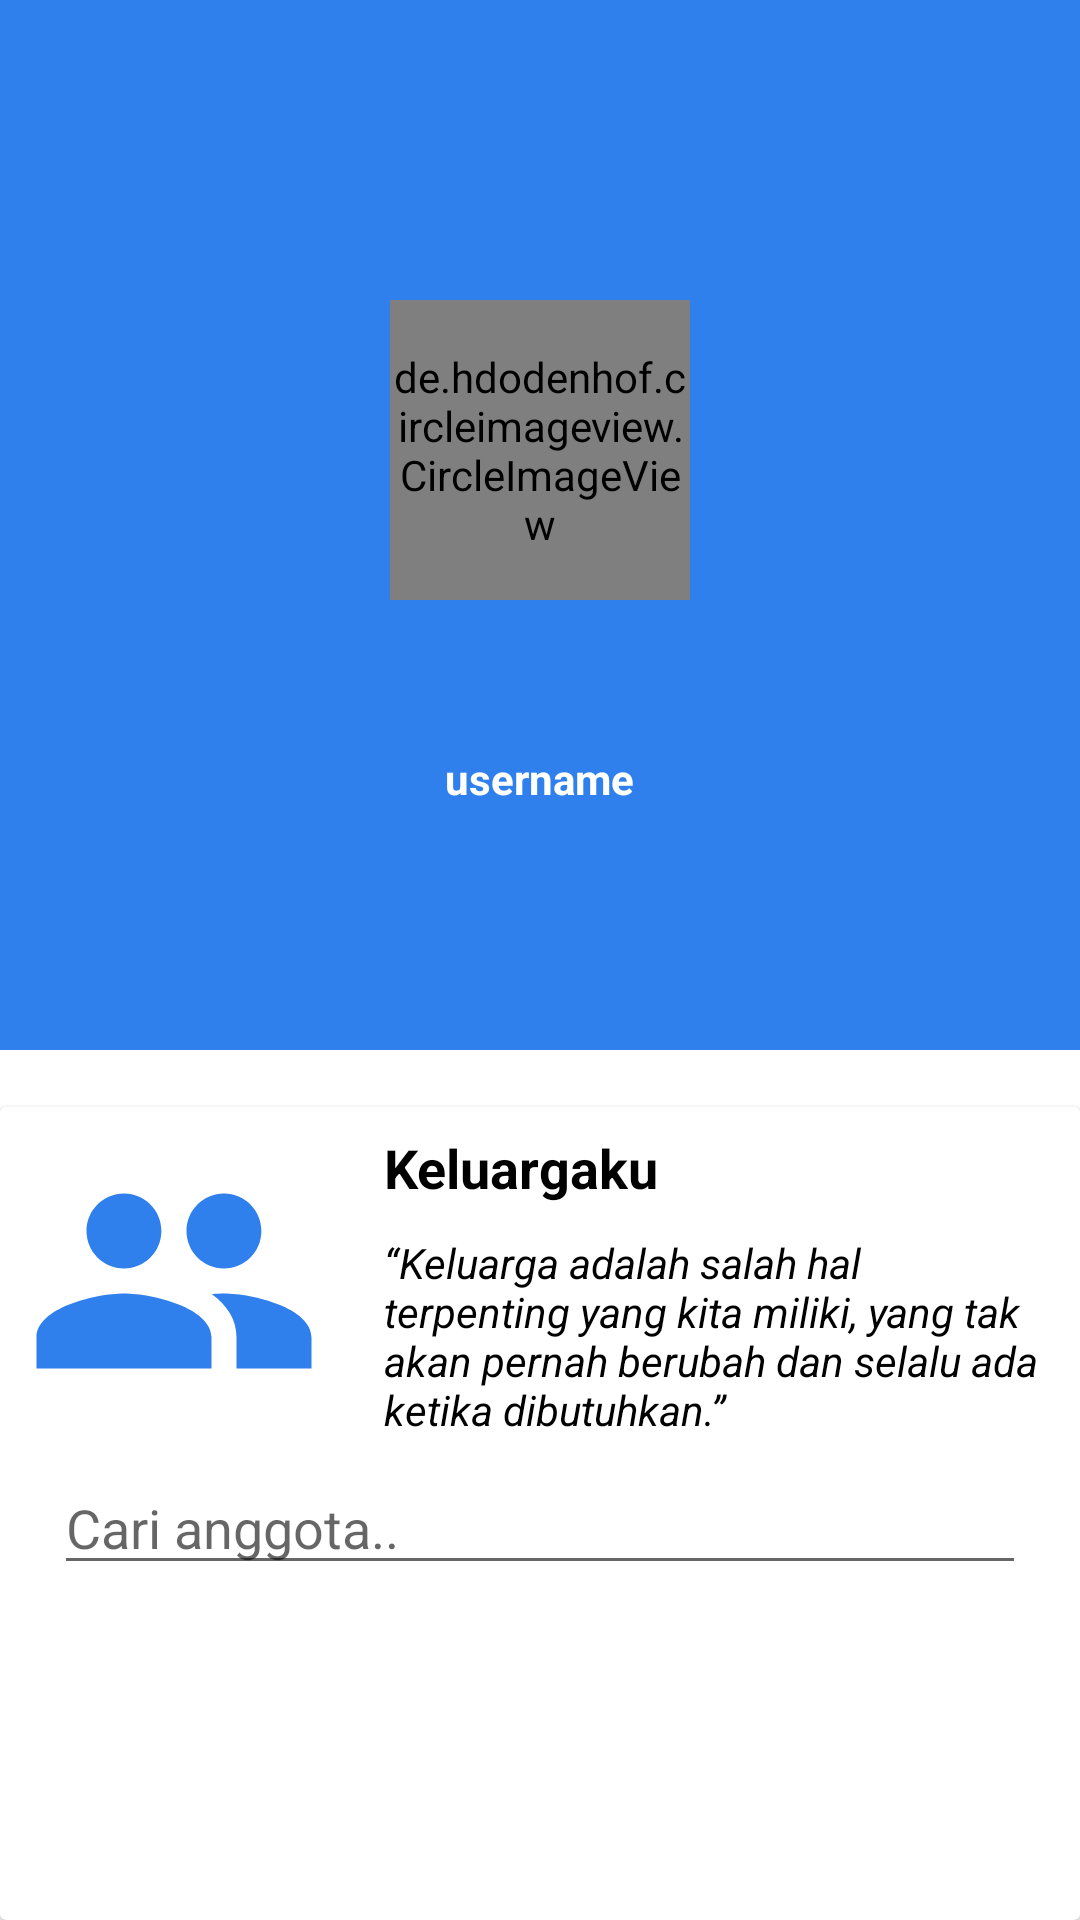

Locate icon controls on the screen. Image size 1080px×1920px, boxes as [x1,y1,x2,y2].
people: [36,1193,312,1369]
